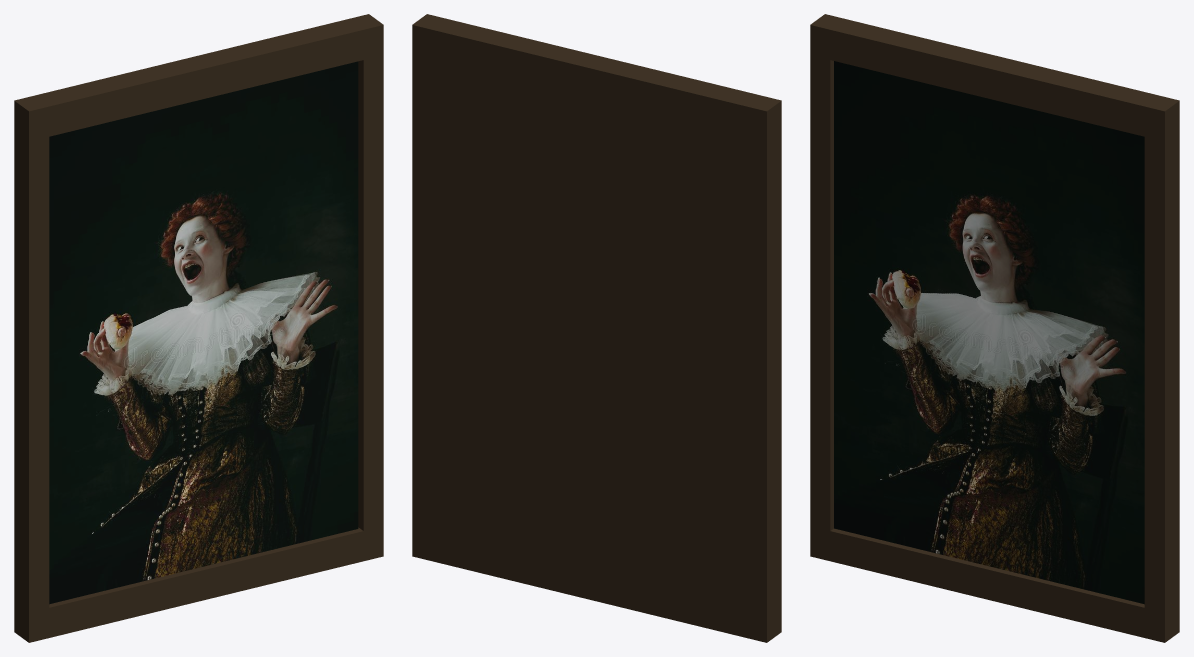
The model's file is Ayin odası resim değişmiş hali.fbx.
3 renders of one model, left to right at view 1: azimuth 30°, elevation 25°; view 2: azimuth 150°, elevation 25°; view 3: azimuth 330°, elevation 25°, orthographic.
Parts seen in each view (by area): view 1: Plane, Cube; view 2: Cube; view 3: Plane, Cube.
Part boxes in pixels (box(x1,y1,x2,y2)): Plane: box(49, 61, 358, 604); Cube: box(14, 14, 383, 642); Cube: box(412, 14, 781, 642); Plane: box(834, 61, 1144, 604); Cube: box(810, 14, 1179, 642).
Size of the model in its own units: 135 by 193 by 9.79.
2 materials, 1 textured.
